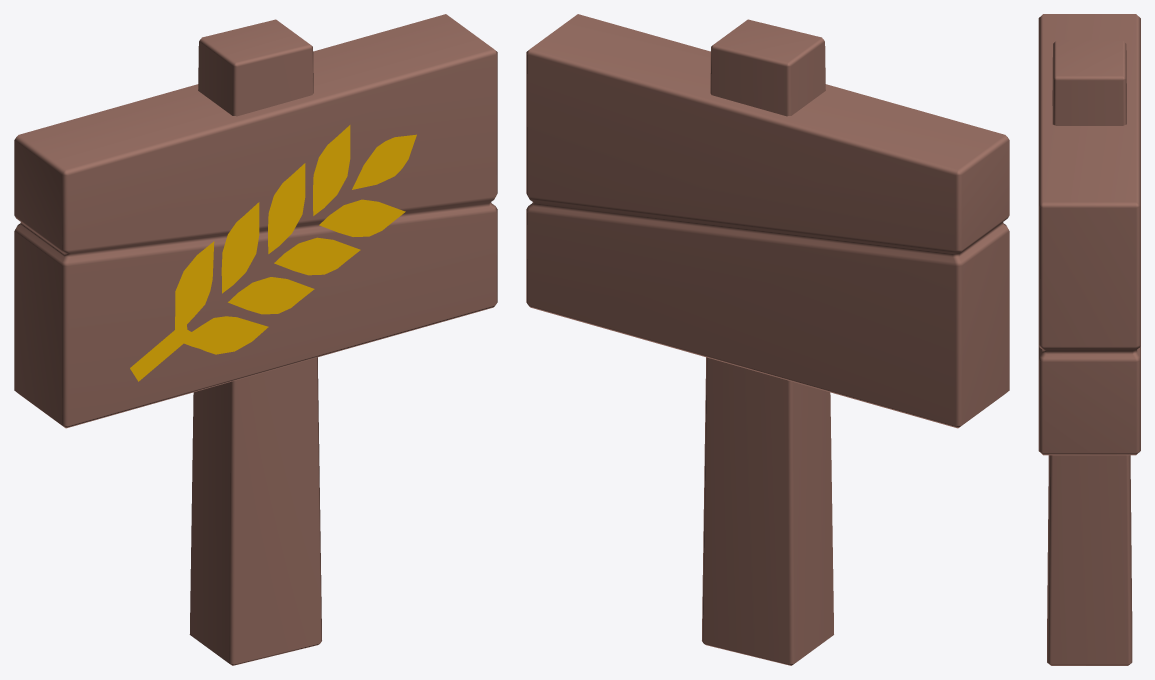
The model's file is Farm_4_Sighn_Wheat_Ear_1.glb.
3 views of the same model, side by side, from view 1: azimuth 30°, elevation 25°; view 2: azimuth 150°, elevation 25°; view 3: azimuth 270°, elevation 25° (orthographic). The views are drawn at different scales.
Visible parts, largest first — view 1: Farm_4_Sighn_Wheat_Ear_1; view 2: Farm_4_Sighn_Wheat_Ear_1; view 3: Farm_4_Sighn_Wheat_Ear_1.
Boxes of the visible parts, x1,y1,x2,y2 form: Farm_4_Sighn_Wheat_Ear_1: (14, 14, 497, 665); Farm_4_Sighn_Wheat_Ear_1: (526, 14, 1009, 665); Farm_4_Sighn_Wheat_Ear_1: (1038, 14, 1140, 665).
Bounding box in the file's own units: 1.56 × 2.06 × 0.326.
Materials: 1 (1 with a texture image).
